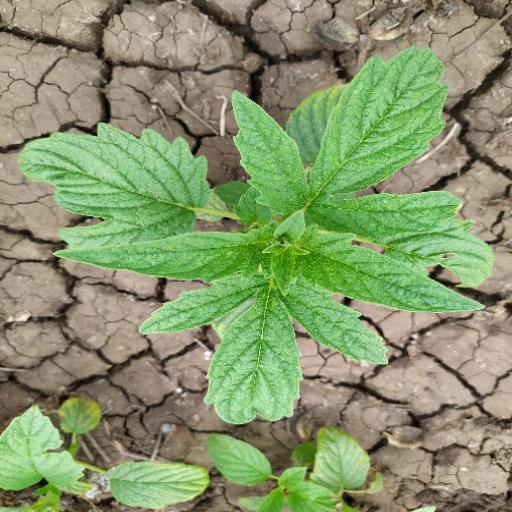crop: (28, 34, 490, 405)
